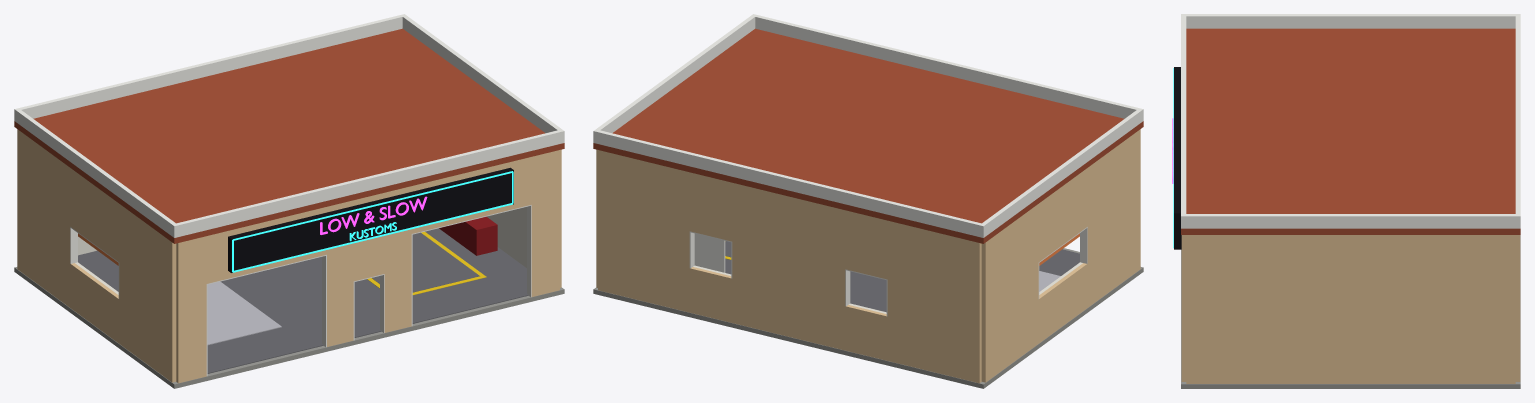
The model's file is LowSlowShop.glb.
3 renders of one model, left to right at view 1: azimuth 30°, elevation 25°; view 2: azimuth 150°, elevation 25°; view 3: azimuth 270°, elevation 25°, orthographic. The views are drawn at different scales.
Parts seen in each view (by area): view 1: LowSlowShop_Roof, LowSlowShop_WallsOut, LowSlowShop_Trim, LowSlowShop_ShopFloor, LowSlowShop_SignBack, LowSlowShop_Foundation, LowSlowShop_Turntable, LowSlowShop_WallsIn, LowSlowShop_Neon2, LowSlowShop_Bench, LowSlowShop_Neon, LowSlowShop_HopPit; view 2: LowSlowShop_WallsOut, LowSlowShop_Roof, LowSlowShop_Trim, LowSlowShop_Foundation, LowSlowShop_ShopFloor, LowSlowShop_HopBoard; view 3: LowSlowShop_Roof, LowSlowShop_WallsOut, LowSlowShop_Trim, LowSlowShop_Foundation, LowSlowShop_SignBack.
Boxes of the visible parts, x1,y1,x2,y2 form: LowSlowShop_Roof: [14, 28, 564, 243]; LowSlowShop_WallsOut: [17, 129, 561, 383]; LowSlowShop_Trim: [14, 14, 564, 376]; LowSlowShop_ShopFloor: [78, 228, 528, 373]; LowSlowShop_SignBack: [228, 167, 513, 272]; LowSlowShop_Foundation: [14, 267, 564, 388]; LowSlowShop_Turntable: [207, 281, 281, 345]; LowSlowShop_WallsIn: [75, 207, 526, 294]; LowSlowShop_Neon2: [232, 171, 513, 272]; LowSlowShop_Bench: [439, 216, 497, 255]; LowSlowShop_Neon: [320, 196, 427, 234]; LowSlowShop_HopPit: [367, 231, 486, 295]; LowSlowShop_WallsOut: [596, 129, 1140, 383]; LowSlowShop_Roof: [593, 28, 1143, 243]; LowSlowShop_Trim: [593, 14, 1143, 316]; LowSlowShop_Foundation: [593, 248, 1143, 388]; LowSlowShop_ShopFloor: [725, 241, 1079, 312]; LowSlowShop_HopBoard: [694, 233, 725, 272]; LowSlowShop_Roof: [1181, 28, 1520, 234]; LowSlowShop_WallsOut: [1181, 235, 1520, 383]; LowSlowShop_Trim: [1181, 14, 1520, 228]; LowSlowShop_Foundation: [1181, 235, 1520, 388]; LowSlowShop_SignBack: [1174, 67, 1181, 249].
Size of the model in its own units: 55.2 by 22 by 40.23.
